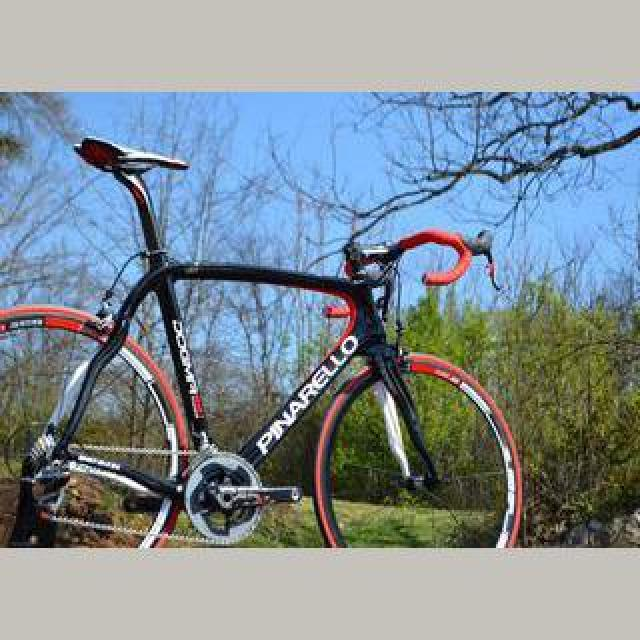Person: (0, 136, 522, 548)
